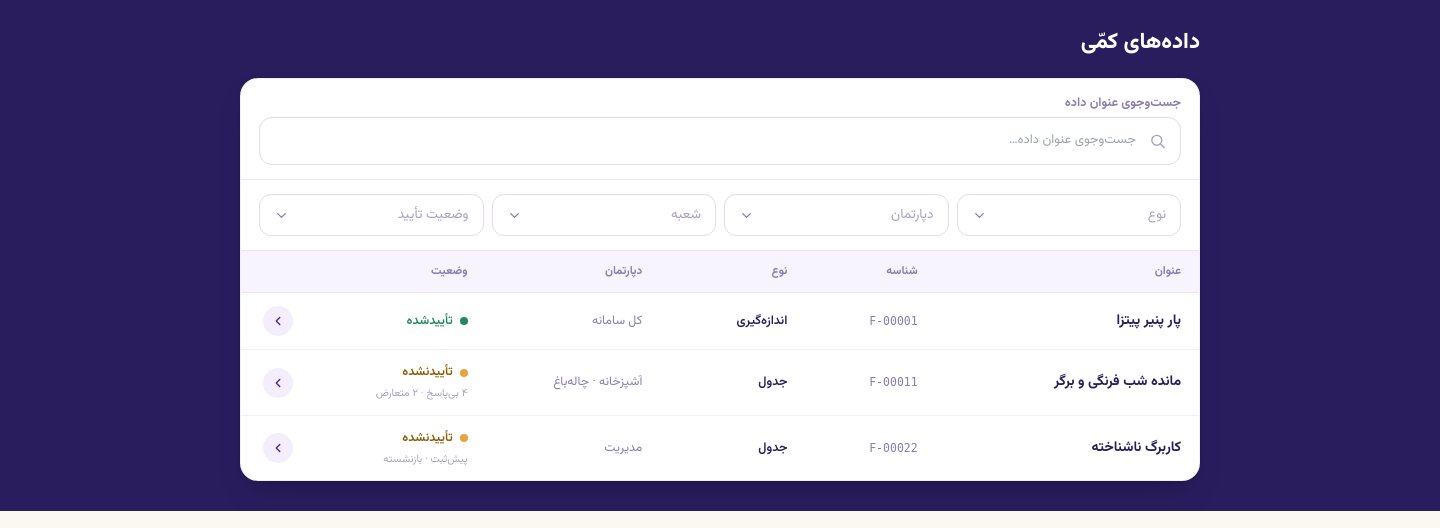
Test: the filters › offers «سراسری» beside the departments
The image size is (1440, 528).
Click the button "دپارتمان": (836, 215) [724,194,948,236]
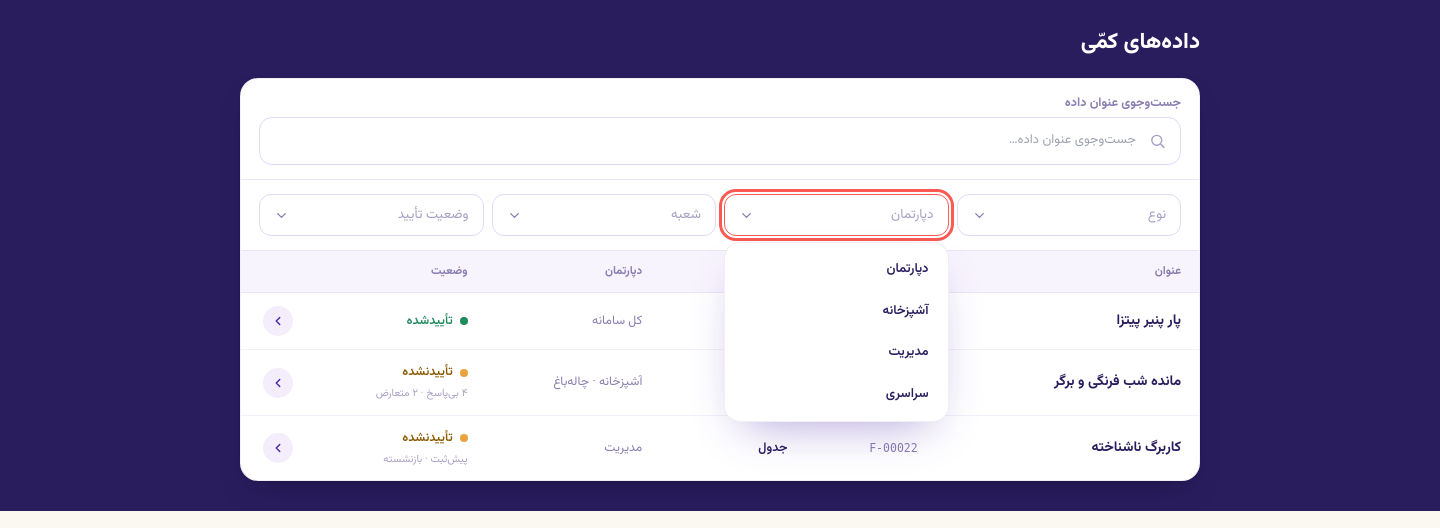
Now the options read "دپارتمان", "آشپزخانه", "مدیریت", "سراسری", in this order, box [732,250,940,290]; [732,292,940,331]; [732,333,940,373]; [732,375,940,414]
